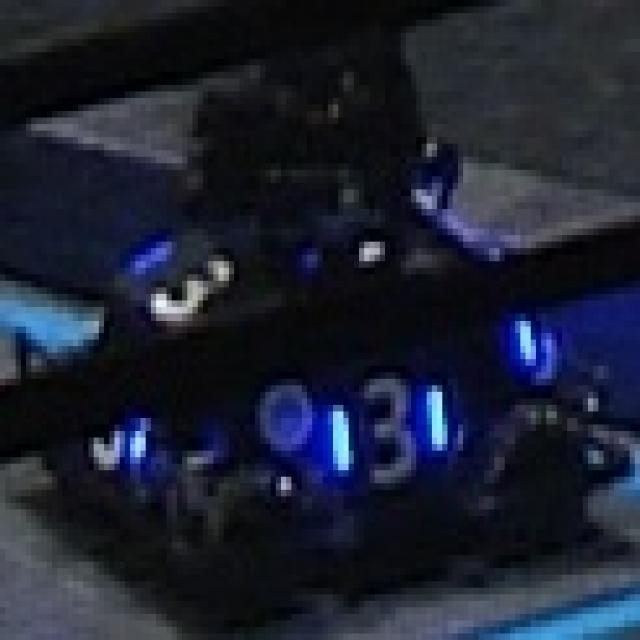B3: (317, 359, 463, 503), (114, 209, 244, 333)
